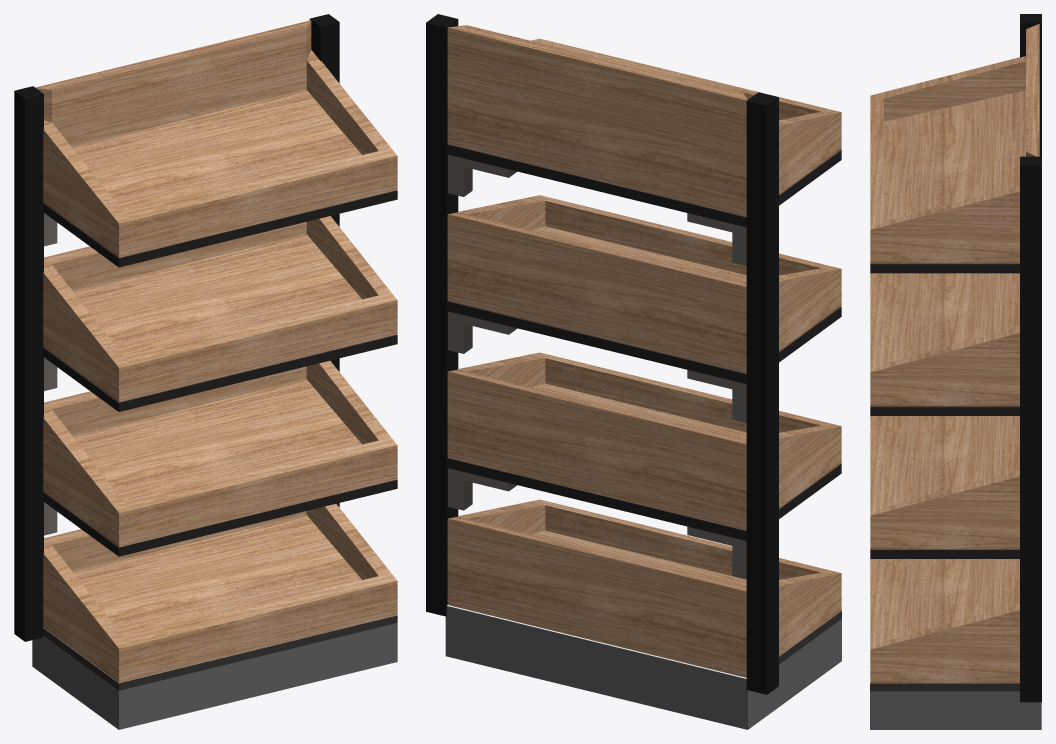
Rendered from fruit shelf single.fbx.
3 views of the same model, side by side, from view 1: azimuth 30°, elevation 25°; view 2: azimuth 150°, elevation 25°; view 3: azimuth 270°, elevation 25° (orthographic). The views are drawn at different scales.
Visible parts, largest first — view 1: Cube.049, Cube.048; view 2: Cube.049, Cube.048; view 3: Cube.049, Cube.048.
Boxes of the visible parts, left/top/right/bottom form: Cube.049: left=35, top=20, right=397, bottom=682; Cube.048: left=14, top=14, right=397, bottom=729; Cube.049: left=447, top=25, right=841, bottom=677; Cube.048: left=426, top=14, right=841, bottom=729; Cube.049: left=870, top=24, right=1039, bottom=683; Cube.048: left=870, top=14, right=1041, bottom=729.
Bounding box in the file's own units: 38.13 × 67.18 × 18.25.
Materials: 2 (2 with a texture image).
